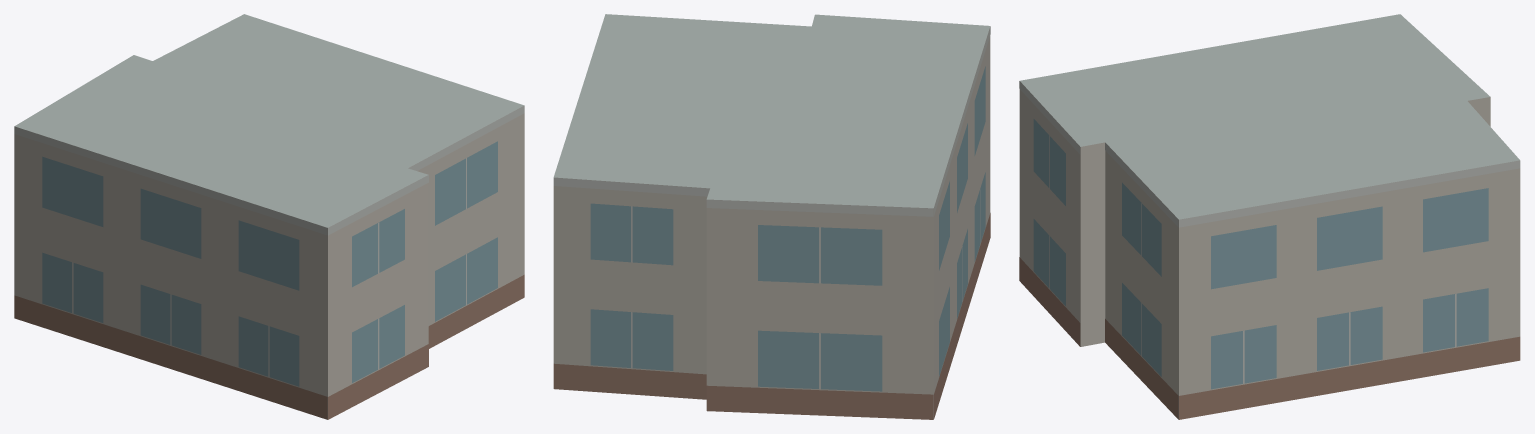
The model's file is survey-upis-33006437.glb.
The picture shows the model from 3 angles, left to right: view 1: azimuth 30°, elevation 25°; view 2: azimuth 150°, elevation 25°; view 3: azimuth 270°, elevation 25°; orthographic projection. The views are drawn at different scales.
Visible parts, largest first — view 1: survey-upis-33006437.tmp; view 2: survey-upis-33006437.tmp; view 3: survey-upis-33006437.tmp.
Boxes of the visible parts, left/top/right/bottom form: survey-upis-33006437.tmp: left=14, top=14, right=524, bottom=419; survey-upis-33006437.tmp: left=553, top=14, right=990, bottom=419; survey-upis-33006437.tmp: left=1019, top=14, right=1520, bottom=419.
Size of the model in its own units: 13.45 by 6.1 by 13.84.
